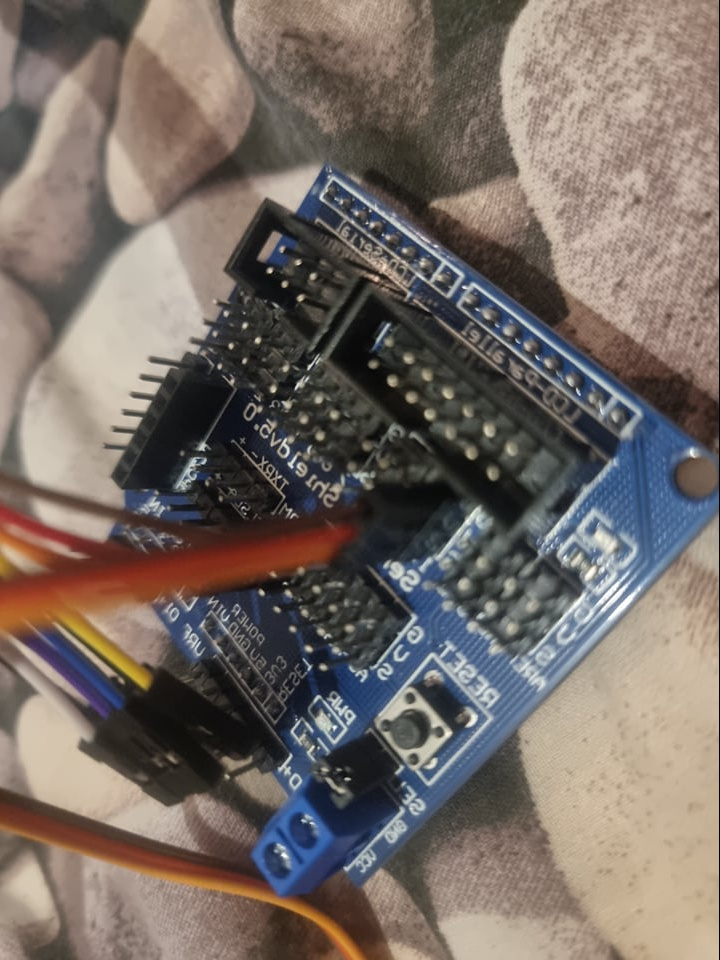5V EXPANSION: (106, 164, 716, 893)
